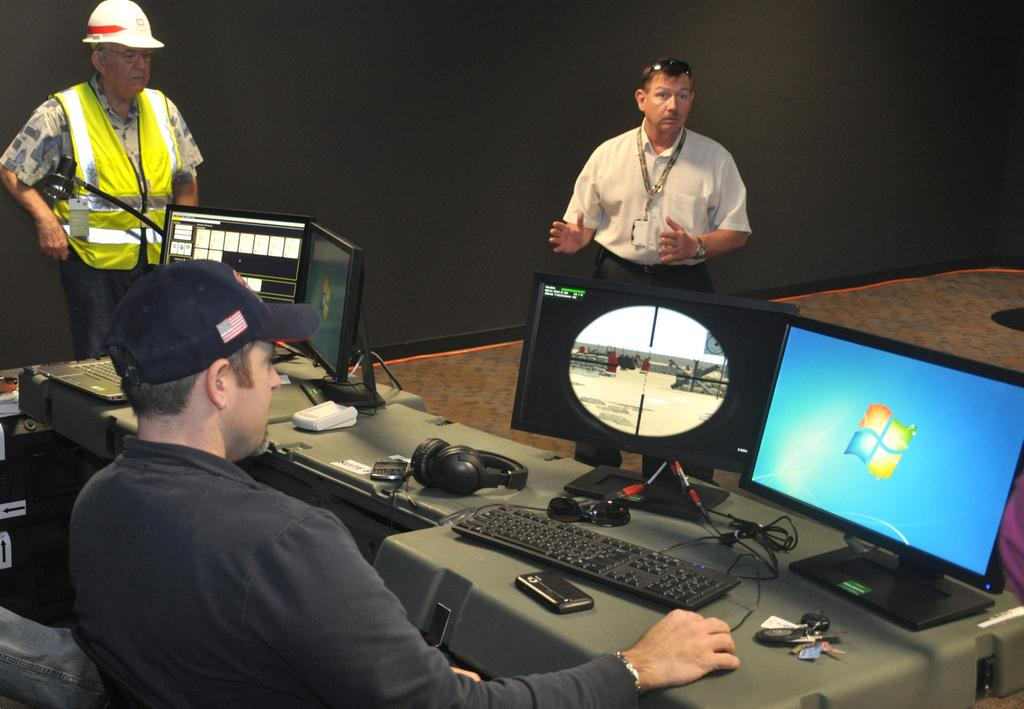Computer-monitor: (509, 272, 801, 527), (748, 313, 1002, 605), (150, 203, 305, 349), (296, 221, 386, 412)
